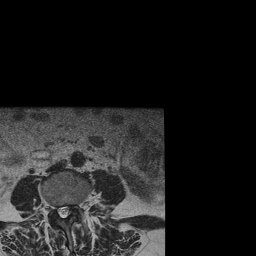CCS_stenosis: (61, 198, 66, 224)
LFS_severe_stenosis: (72, 196, 78, 215)
LLS_stenosis: (66, 198, 72, 220)
RFS_stenosis: (51, 198, 56, 217)
RLS_stenosis: (56, 199, 61, 219)
